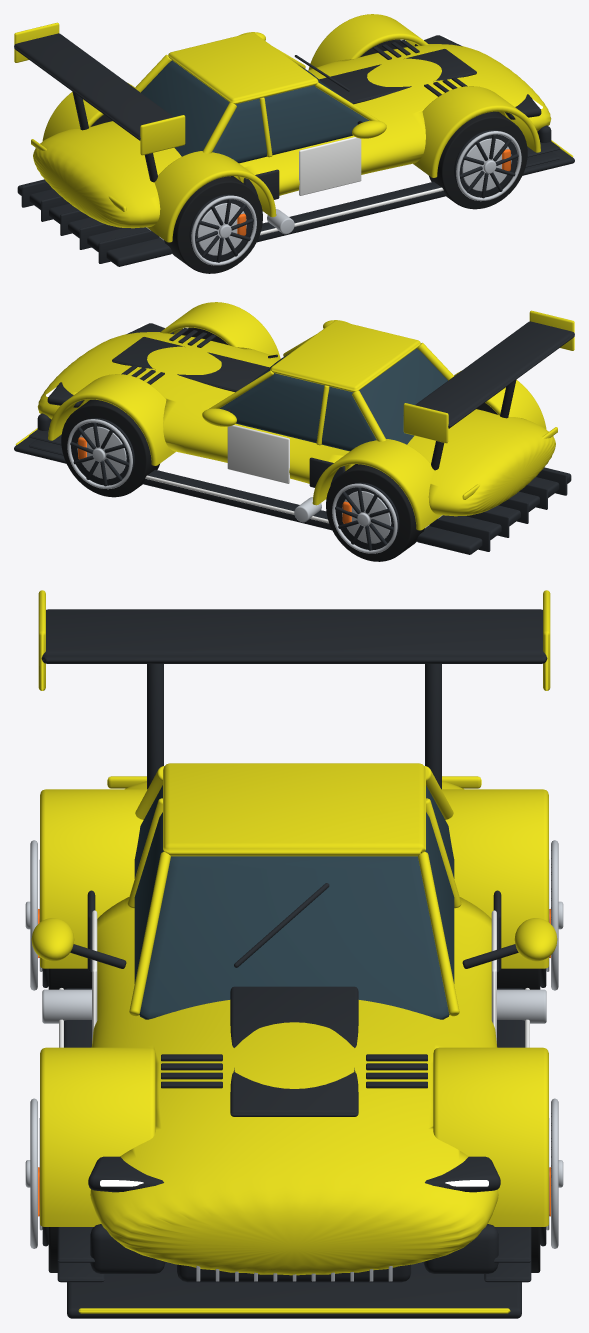
The model's file is yellow.glb.
3 views of the same model, one above another, from view 1: azimuth 30°, elevation 25°; view 2: azimuth 150°, elevation 25°; view 3: azimuth 270°, elevation 25° (orthographic). The views are drawn at different scales.
Visible parts, largest first — view 1: yellow paint, Carbon aero.001, Smoked glazing.001, Slick tire rubber.001, Forged alloy.001, Livery white.001; view 2: yellow paint, Carbon aero.001, Smoked glazing.001, Slick tire rubber.001, Forged alloy.001, Livery white.001; view 3: yellow paint, Carbon aero.001, Smoked glazing.001, Forged alloy.001, Slick tire rubber.001, Livery white.001.
Boxes of the visible parts, x1,y1,x2,y2 form: yellow paint: (14, 14, 573, 242); Carbon aero.001: (14, 33, 574, 266); Smoked glazing.001: (141, 60, 369, 163); Slick tire rubber.001: (91, 39, 527, 273); Forged alloy.001: (191, 131, 521, 265); Livery white.001: (260, 137, 443, 235); yellow paint: (15, 302, 574, 530); Carbon aero.001: (14, 321, 574, 554); Smoked glazing.001: (219, 348, 447, 451); Slick tire rubber.001: (61, 327, 497, 561); Forged alloy.001: (67, 419, 397, 553); Livery white.001: (145, 425, 328, 523); yellow paint: (31, 590, 557, 1313); Carbon aero.001: (41, 609, 547, 1318); Smoked glazing.001: (134, 785, 454, 1019); Forged alloy.001: (25, 840, 563, 1281); Slick tire rubber.001: (48, 968, 540, 1272); Livery white.001: (59, 910, 529, 1047).
Bounding box in the file's own units: 4.96 × 1.74 × 2.52.
